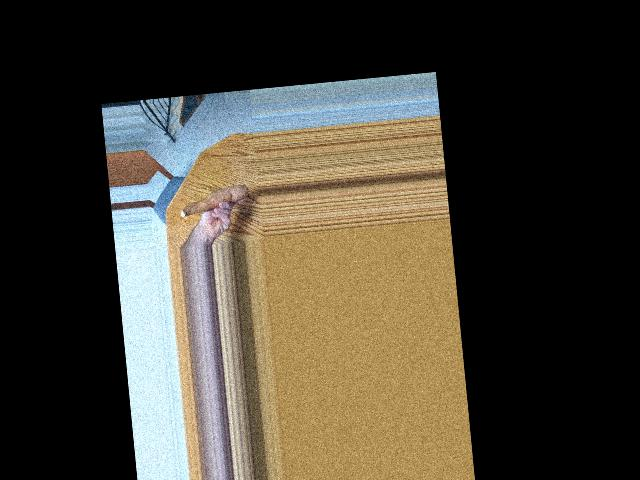sweet_potato: (177, 183, 251, 219)
